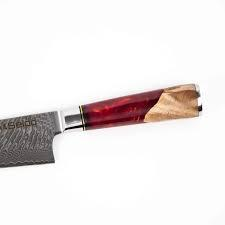Knife: (0, 82, 202, 172)
